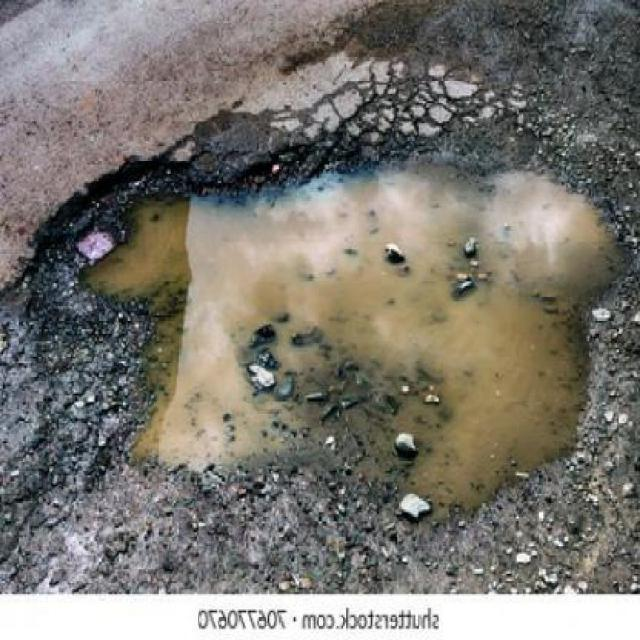pothole: (30, 153, 626, 526)
